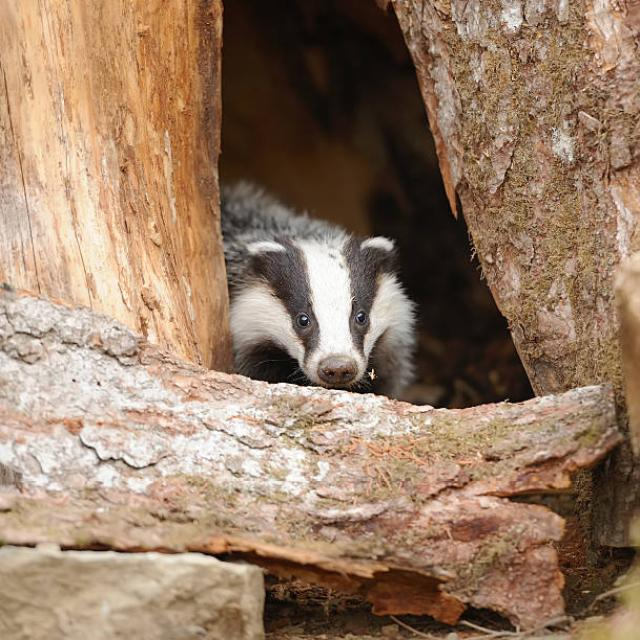Badger: (225, 202, 408, 385)
